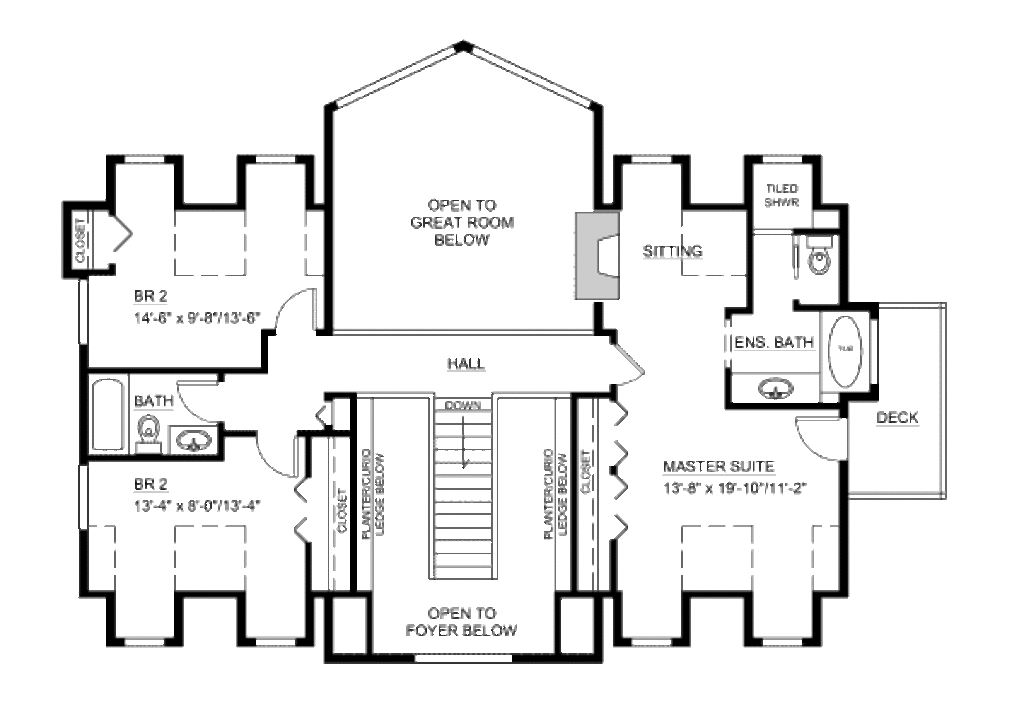door: (797, 408, 861, 469), (263, 286, 326, 334), (248, 427, 301, 481), (169, 374, 220, 424), (610, 340, 648, 381)
large_sink: (802, 230, 841, 276), (132, 406, 162, 458)
small_sink: (734, 370, 811, 405), (170, 421, 214, 452)
stairs: (412, 390, 499, 588)
tub: (818, 309, 872, 394), (87, 372, 126, 450)
window: (411, 649, 514, 668), (74, 272, 94, 345), (752, 147, 809, 167), (253, 148, 298, 171), (626, 147, 676, 167), (757, 632, 803, 650), (75, 470, 88, 532), (124, 149, 172, 165), (621, 636, 675, 650), (250, 636, 302, 650), (115, 635, 170, 647)
